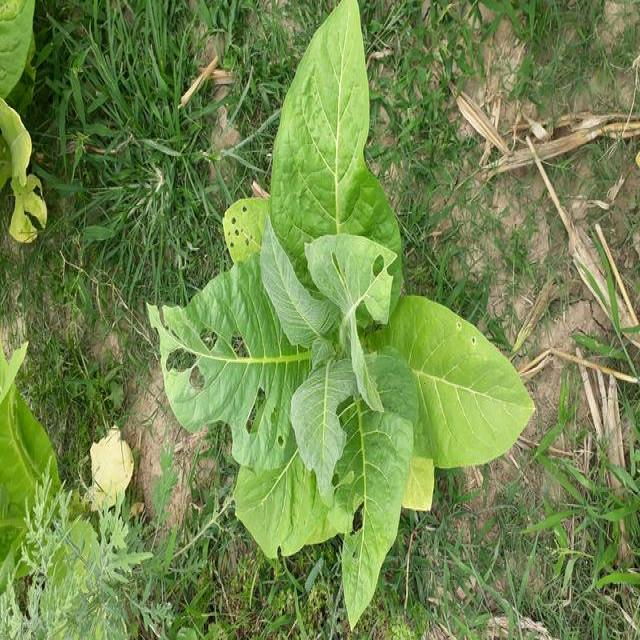crop: (174, 0, 515, 608)
